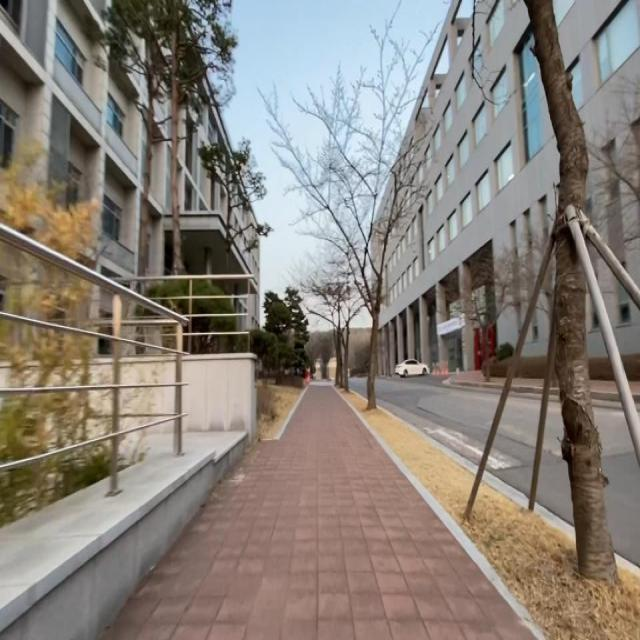sidewalk: (95, 381, 542, 640), (455, 371, 506, 385), (590, 380, 618, 393), (512, 378, 544, 388), (630, 382, 640, 395)
